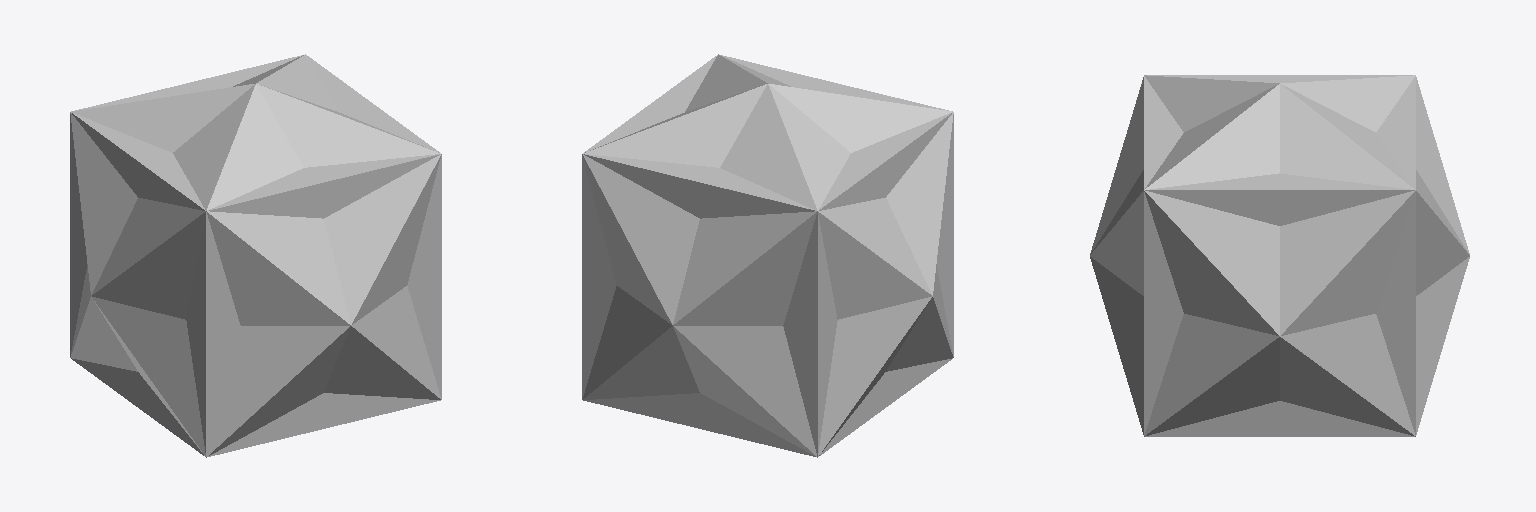
File: testCubeAllSides.obj
The picture shows the model from 3 angles: view 1: azimuth 30°, elevation 25°; view 2: azimuth 150°, elevation 25°; view 3: azimuth 270°, elevation 25°; orthographic projection.
Visible parts, largest first — view 1: Cube; view 2: Cube; view 3: Cube.
Part boxes in pixels (left/top/right/bottom): Cube: left=70, top=54, right=441, bottom=457; Cube: left=582, top=54, right=953, bottom=457; Cube: left=1090, top=75, right=1469, bottom=436.
Size of the model in its own units: 2.8 by 2.8 by 2.8.